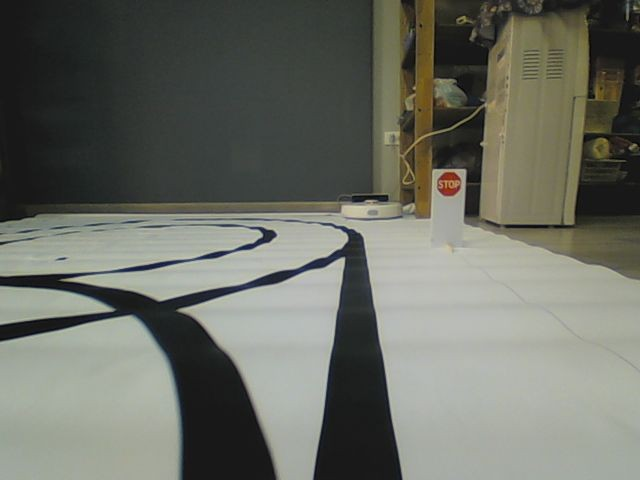Stop: (436, 170, 461, 197)
